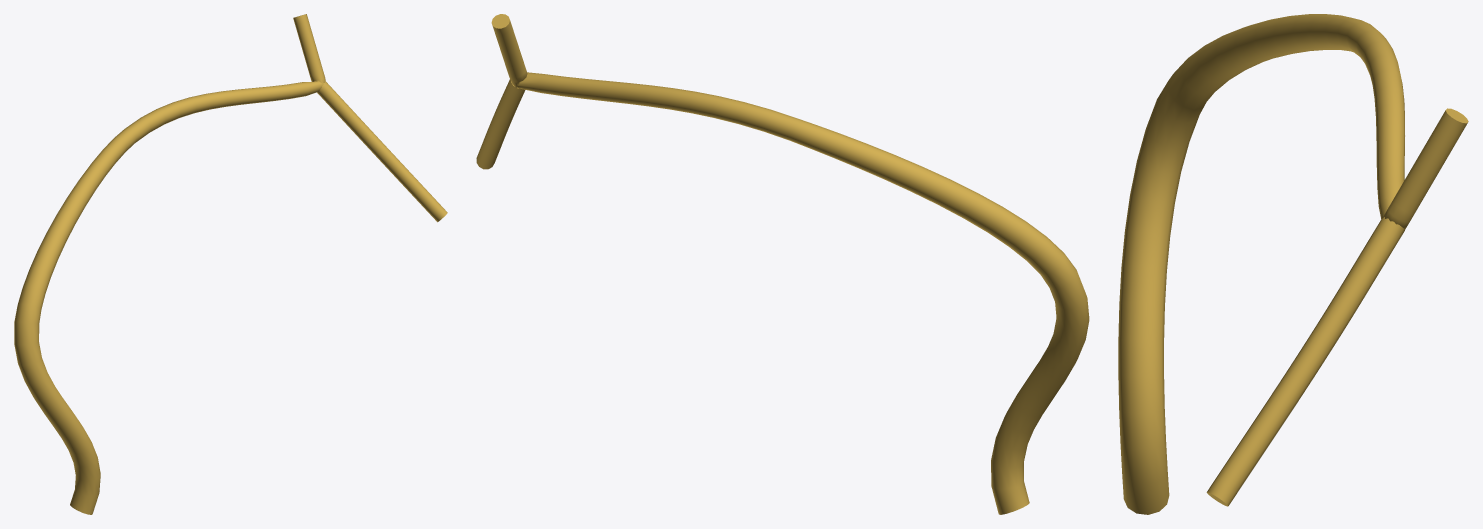
3 views of the same model, side by side, from view 1: azimuth 30°, elevation 25°; view 2: azimuth 150°, elevation 25°; view 3: azimuth 270°, elevation 25° (orthographic). The views are drawn at different scales.
Visible parts, largest first — view 1: 右侧前庭蜗神经; view 2: 右侧前庭蜗神经; view 3: 右侧前庭蜗神经.
Part boxes in pixels (x1=…): 右侧前庭蜗神经: x1=14, y1=14, x2=447, y2=514; 右侧前庭蜗神经: x1=476, y1=14, x2=1089, y2=514; 右侧前庭蜗神经: x1=1118, y1=14, x2=1468, y2=514.
Bounding box in the file's own units: 0.0212 × 0.0166 × 0.0079.
